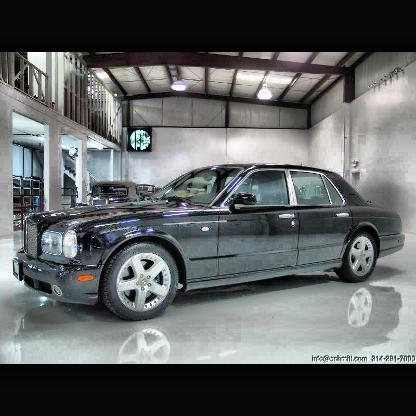Bentley Arnage Sedan 2009: (13, 164, 408, 323)
